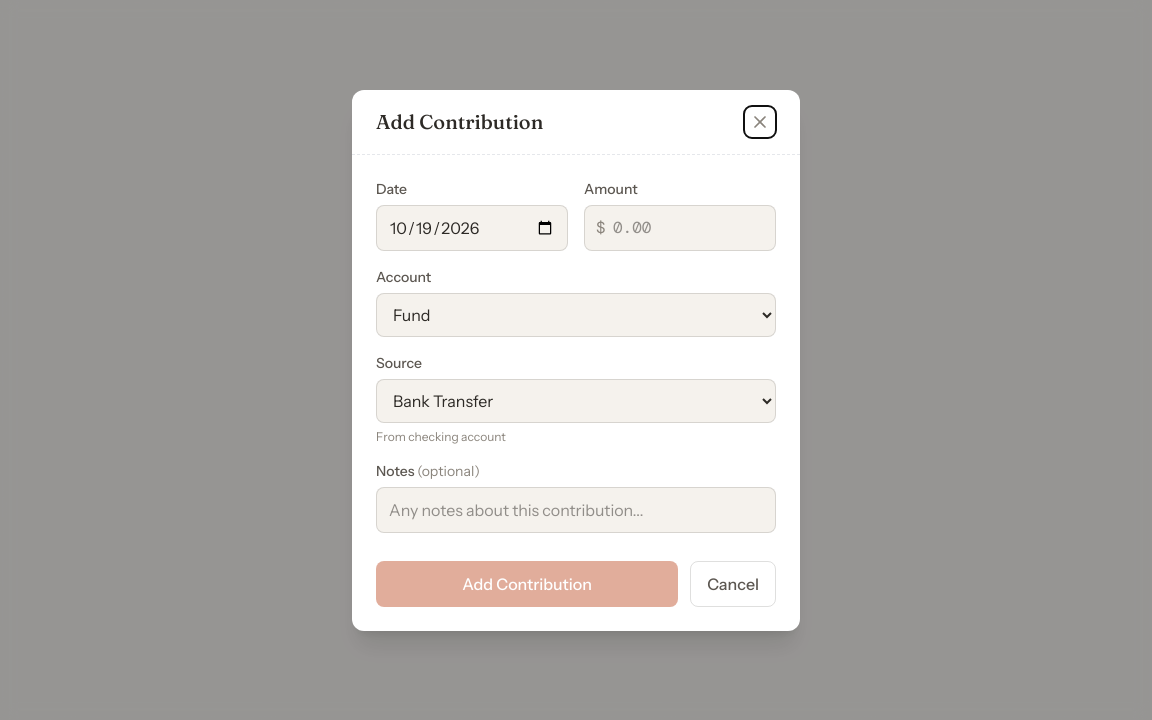
Test: blocks a blank contribution date in the add form
Type "25" into the field labelled "Amount" at (680, 228), box x1=584 y1=204 x2=776 y2=250
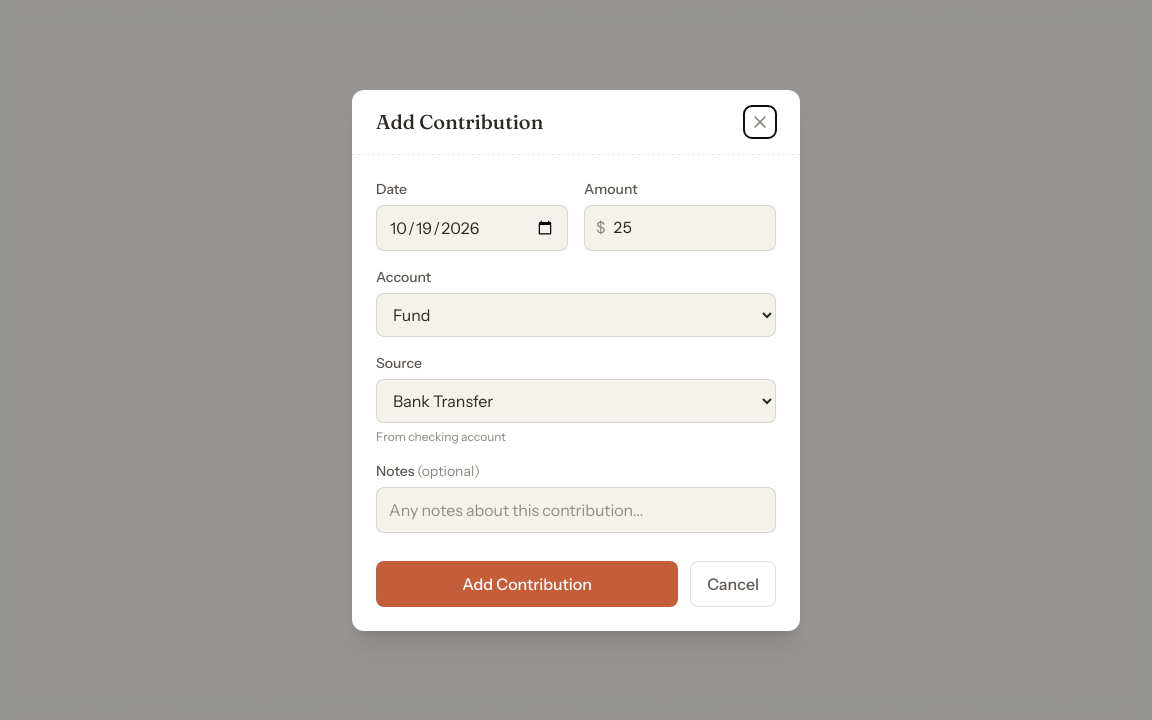
Clear the date field labelled "Date" at (472, 228), box x1=376 y1=204 x2=568 y2=250
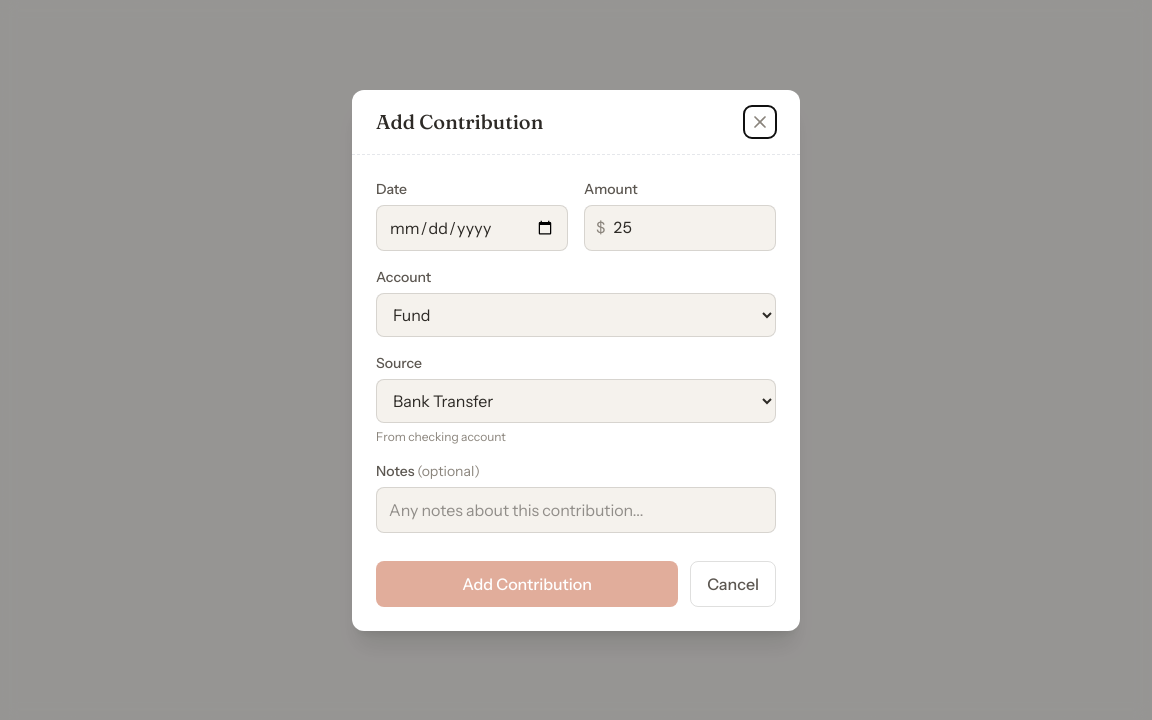
Submit the form, box x1=352 y1=154 x2=800 y2=630
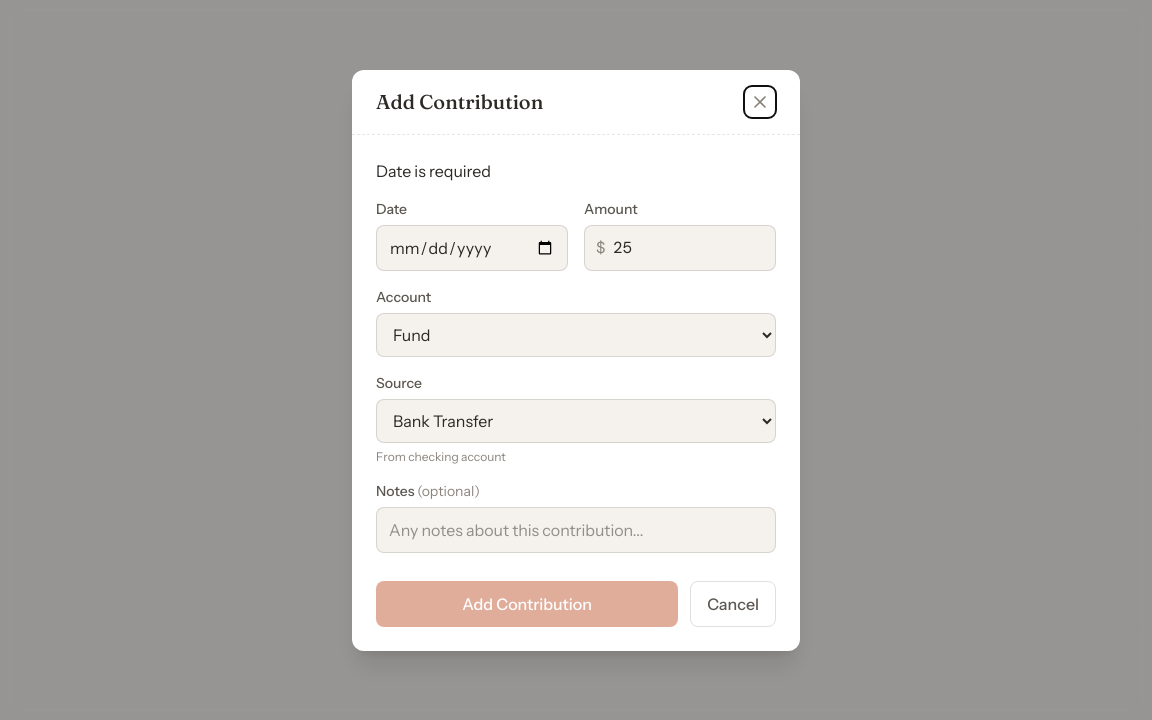
Check: the message reads "Date is required", box x1=376 y1=160 x2=491 y2=180
